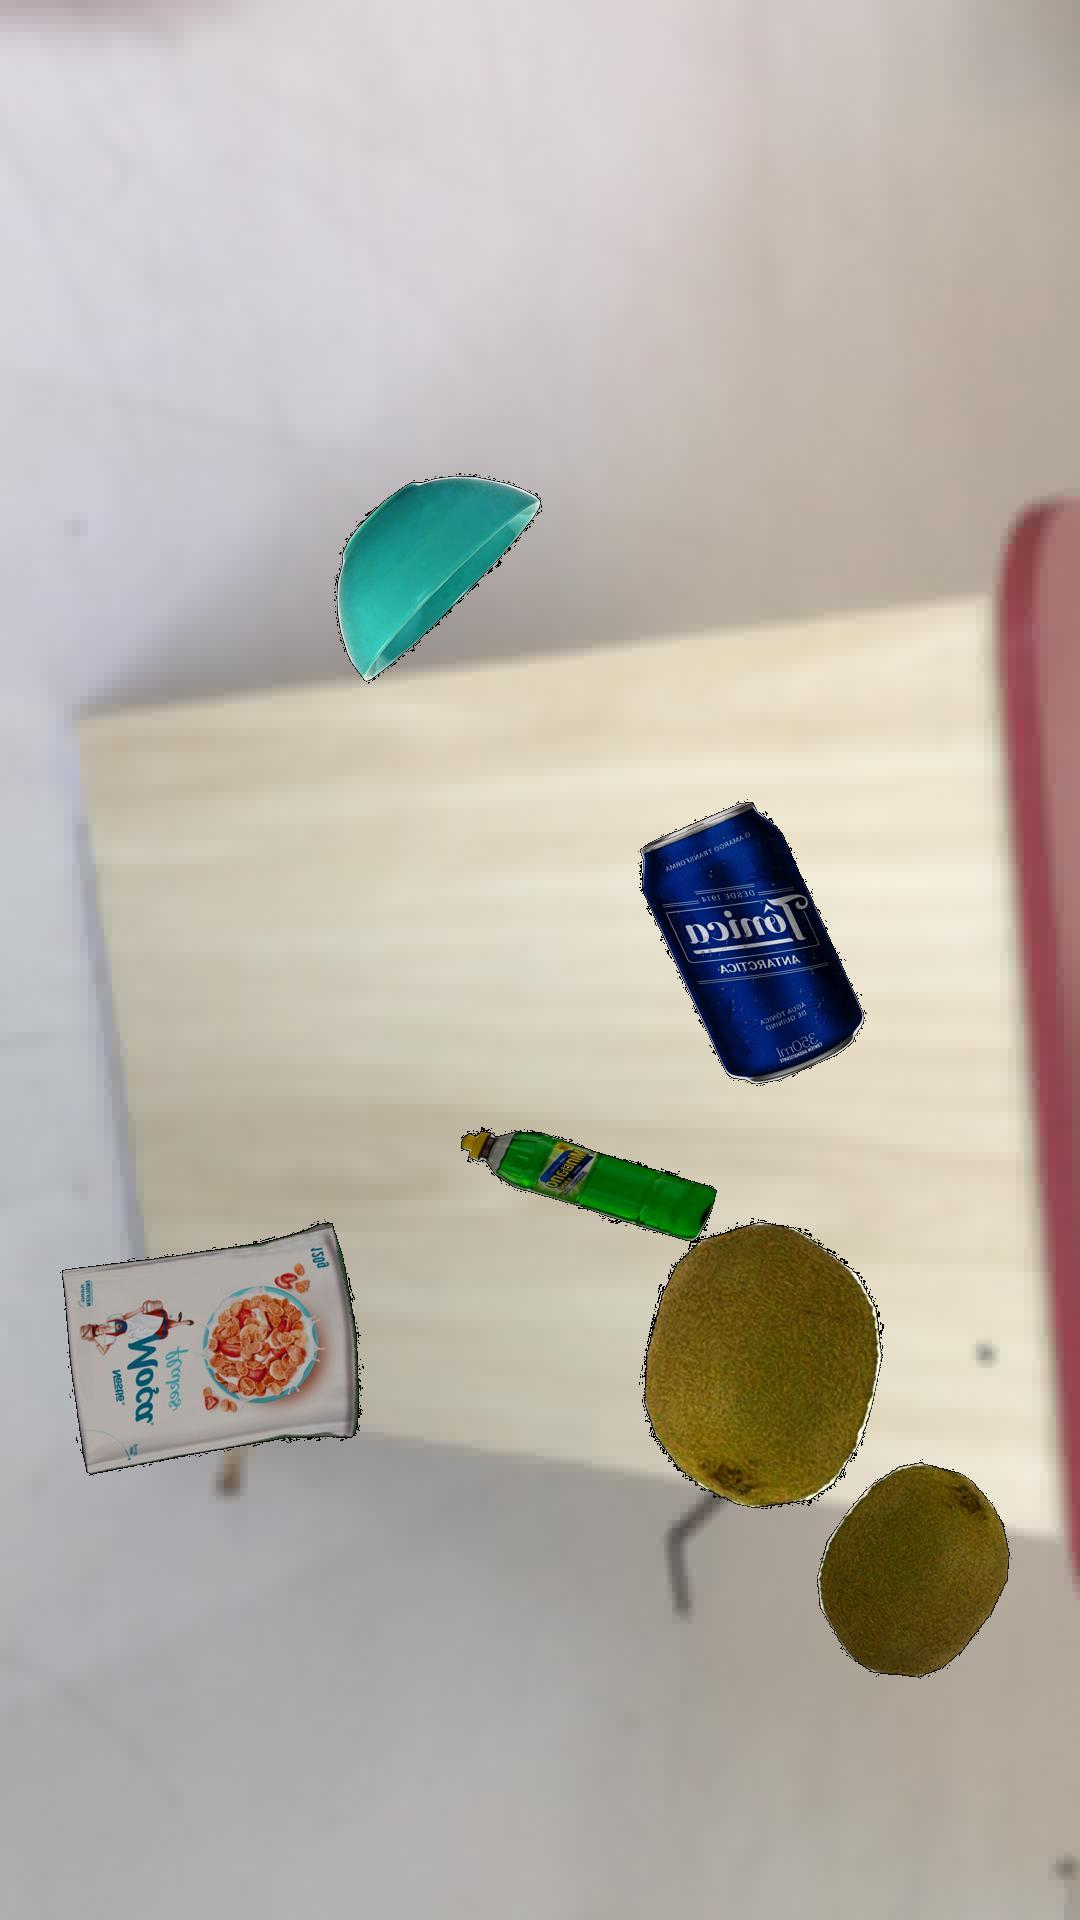bowl: (334, 473, 539, 680)
cleaner: (459, 1126, 716, 1241)
corn flakes: (61, 1221, 361, 1473)
kiwi: (641, 1220, 882, 1507), (815, 1461, 1009, 1676)
tonic: (638, 800, 864, 1083)
